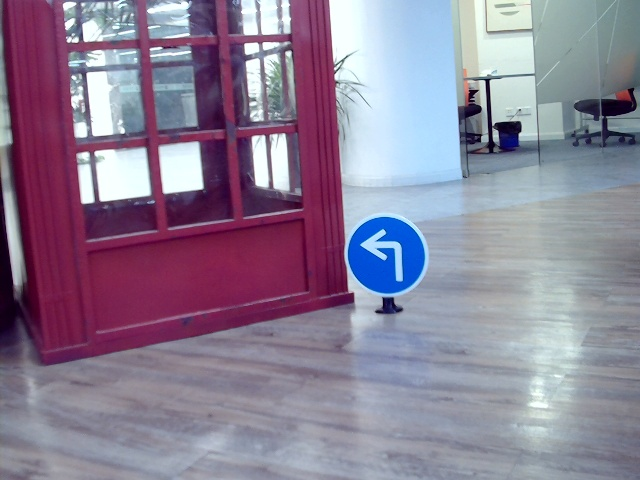turn_left: (361, 227, 408, 281)
